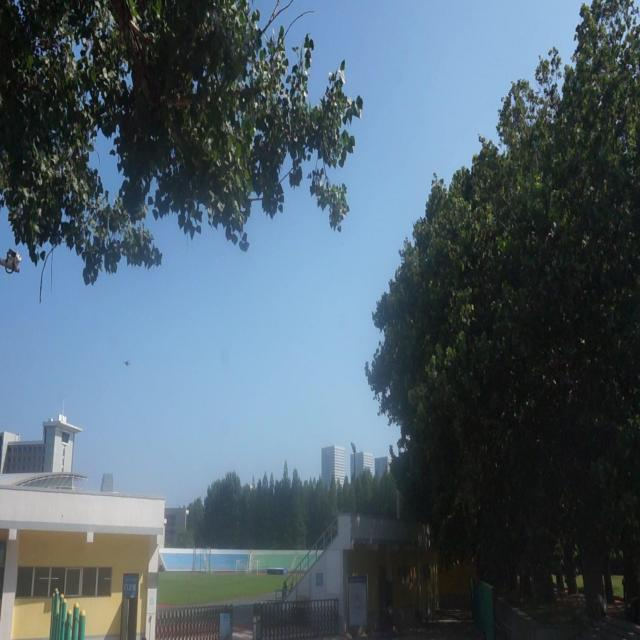UAV: (124, 360, 130, 366)
